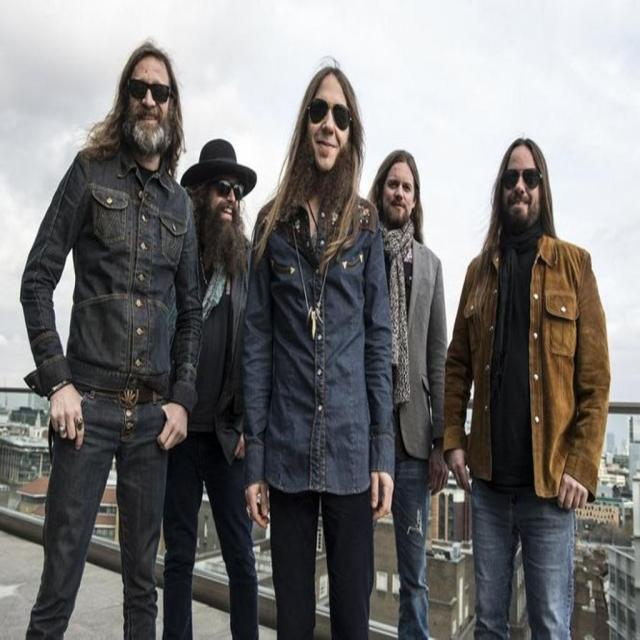Face: (308, 69, 356, 177), (130, 44, 175, 137), (504, 152, 554, 233), (203, 162, 247, 230), (379, 155, 422, 224)
